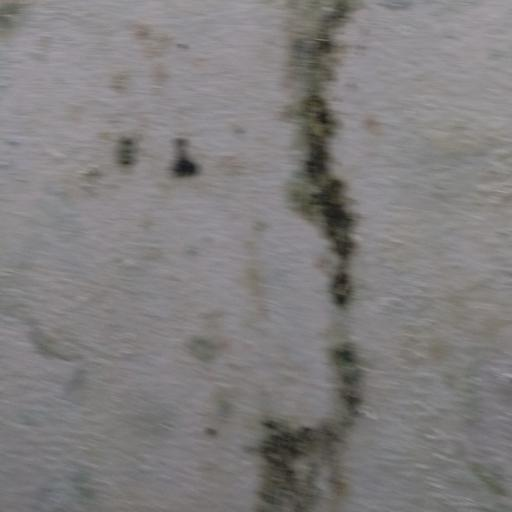algae: (129, 11, 446, 512)
